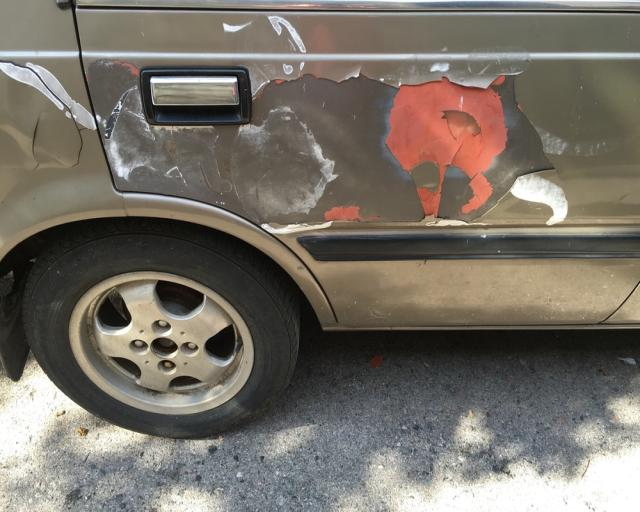crack: (0, 60, 88, 168), (29, 112, 42, 170)
scratch: (82, 58, 577, 229)
